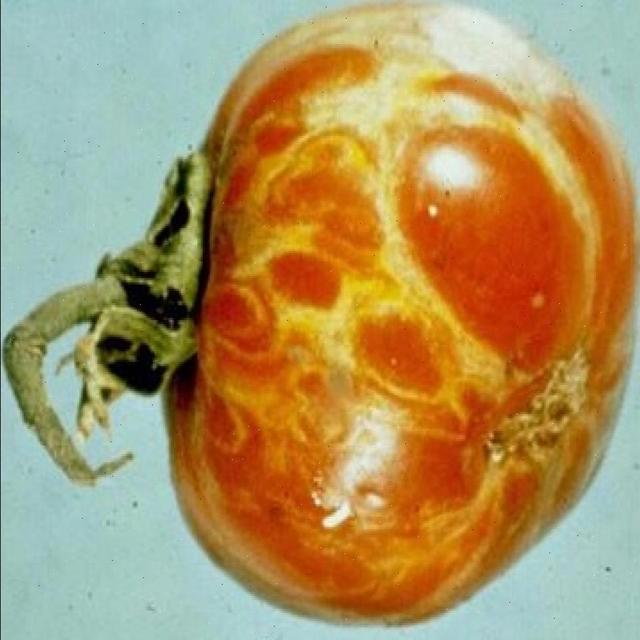Spotted wilt Virus Fruit: (231, 86, 603, 125)
